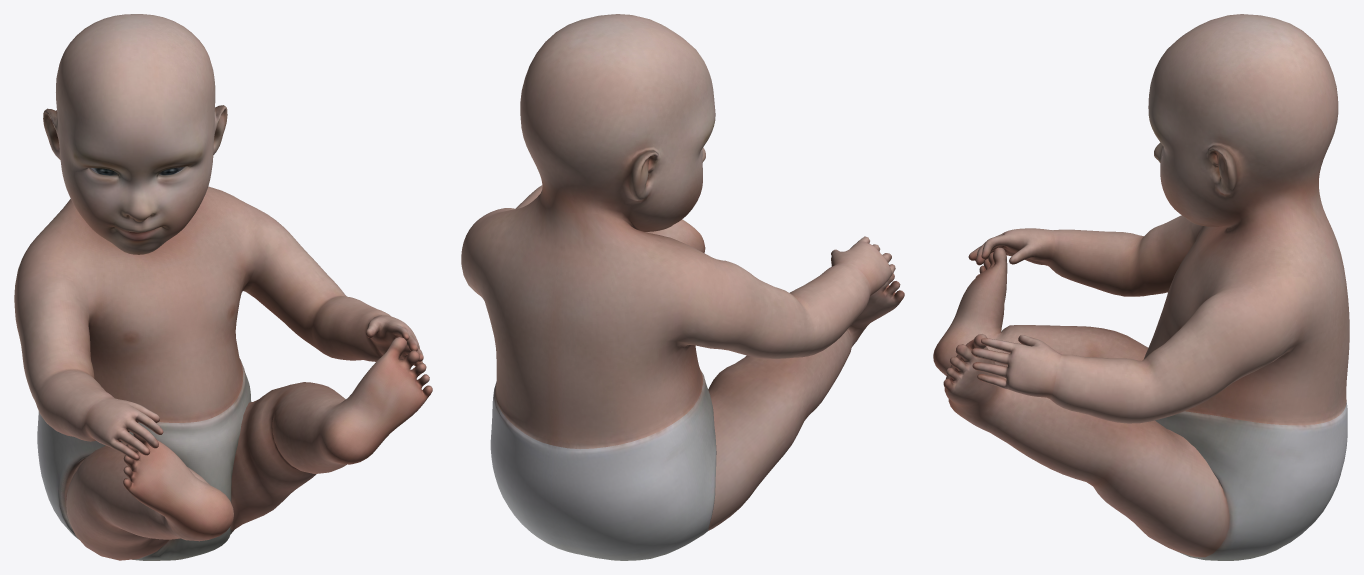
The model's file is baby.5c3cf8e8.glb.
3 renders of one model, left to right at view 1: azimuth 30°, elevation 25°; view 2: azimuth 150°, elevation 25°; view 3: azimuth 270°, elevation 25°, orthographic. The views are drawn at different scales.
Visible parts, largest first — view 1: baby; view 2: baby; view 3: baby.
Part boxes in pixels (bbox=[...]): baby: bbox=[14, 14, 432, 560]; baby: bbox=[461, 14, 904, 560]; baby: bbox=[933, 14, 1349, 560].
Size of the model in its own units: 13.06 by 19.27 by 14.17.
Materials: 1 (1 with a texture image).
